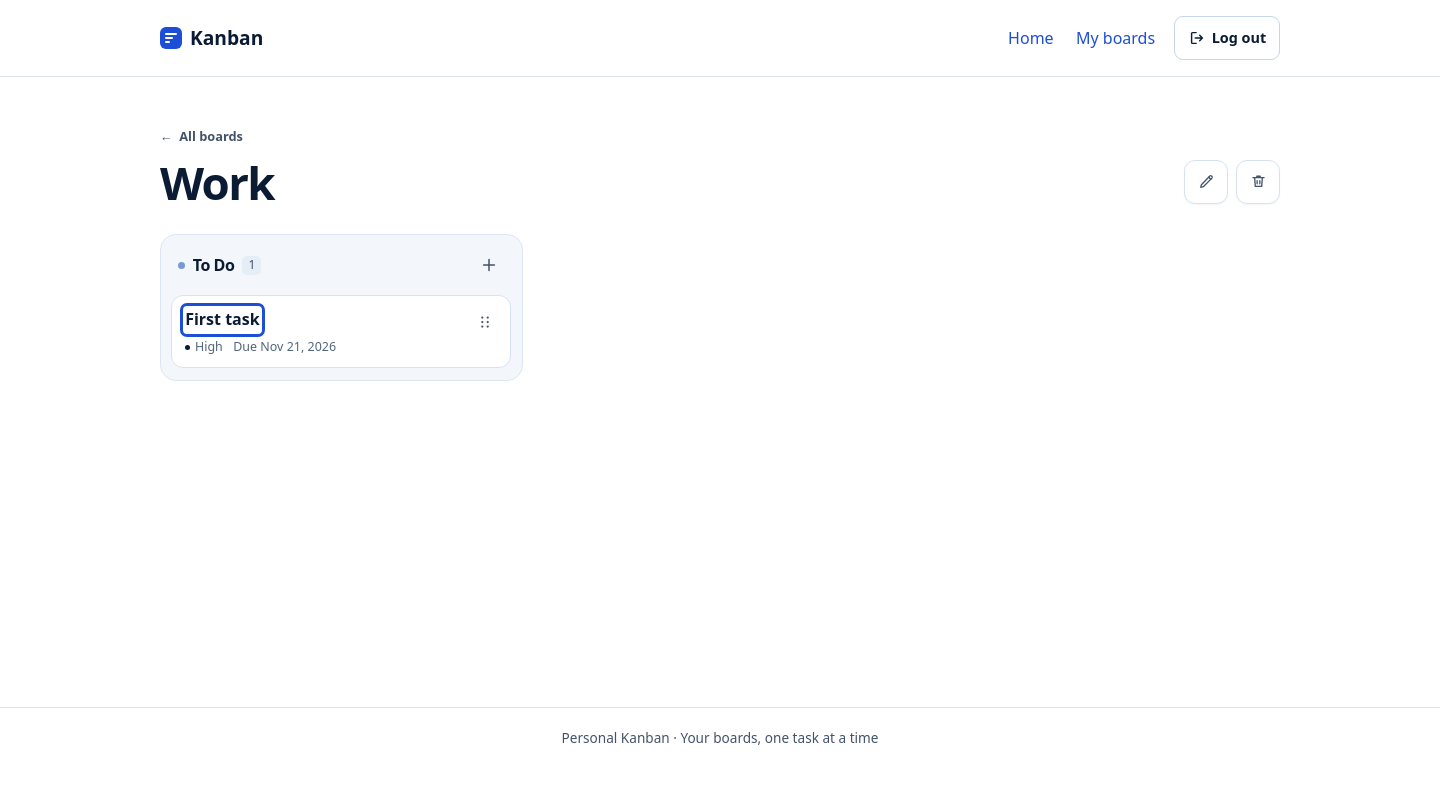
Test: board and card operations › opens the card editor in a focused modal and restores focus when dismissed
expect the heading "Work" is shown: met, box [160,159,274,206]
Click the button with aria-label "Edit card First task" at (222, 320), box [185,308,260,332]
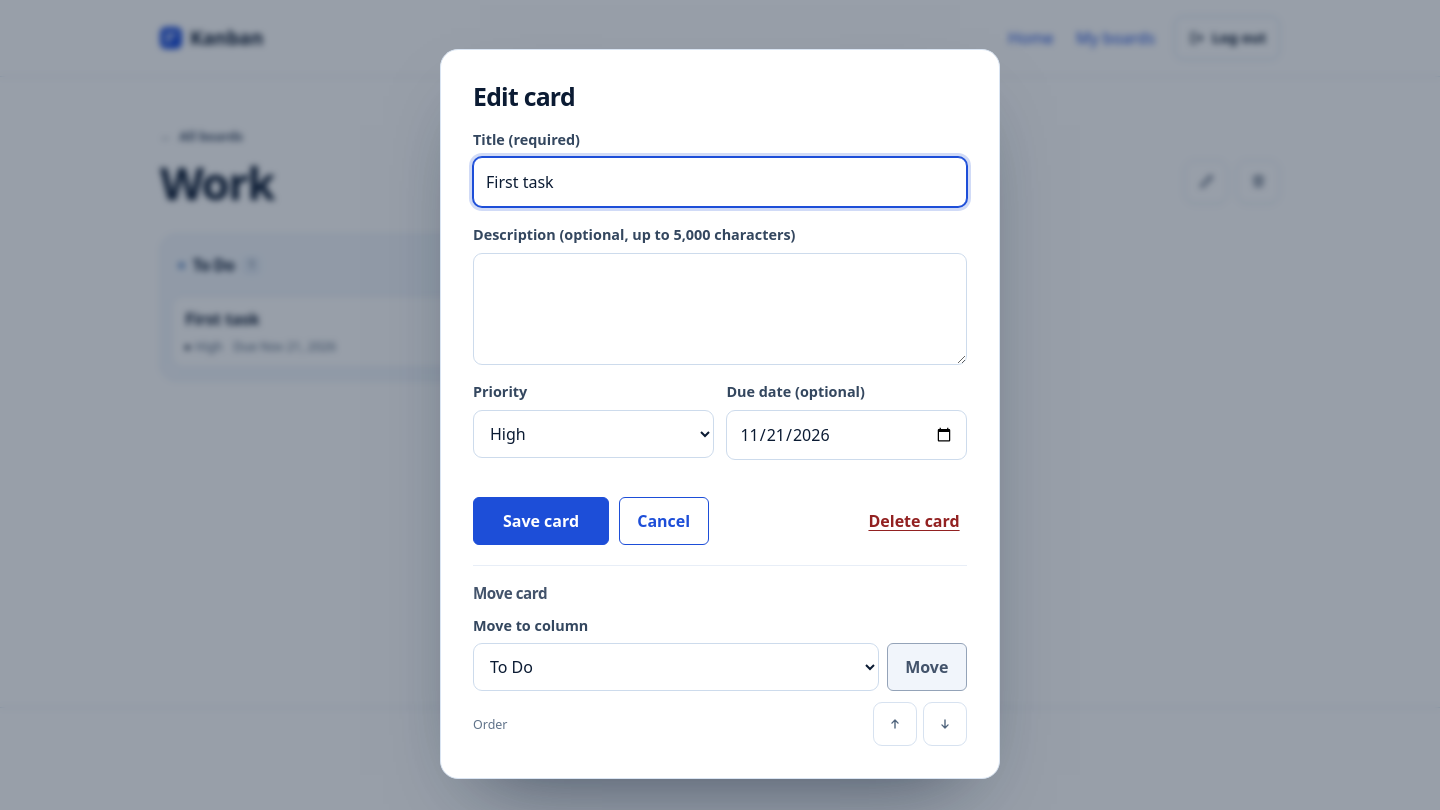
expect the dialog "Edit card" is shown: met
Press Escape in the dialog "Edit card", box [440,49,1000,779]
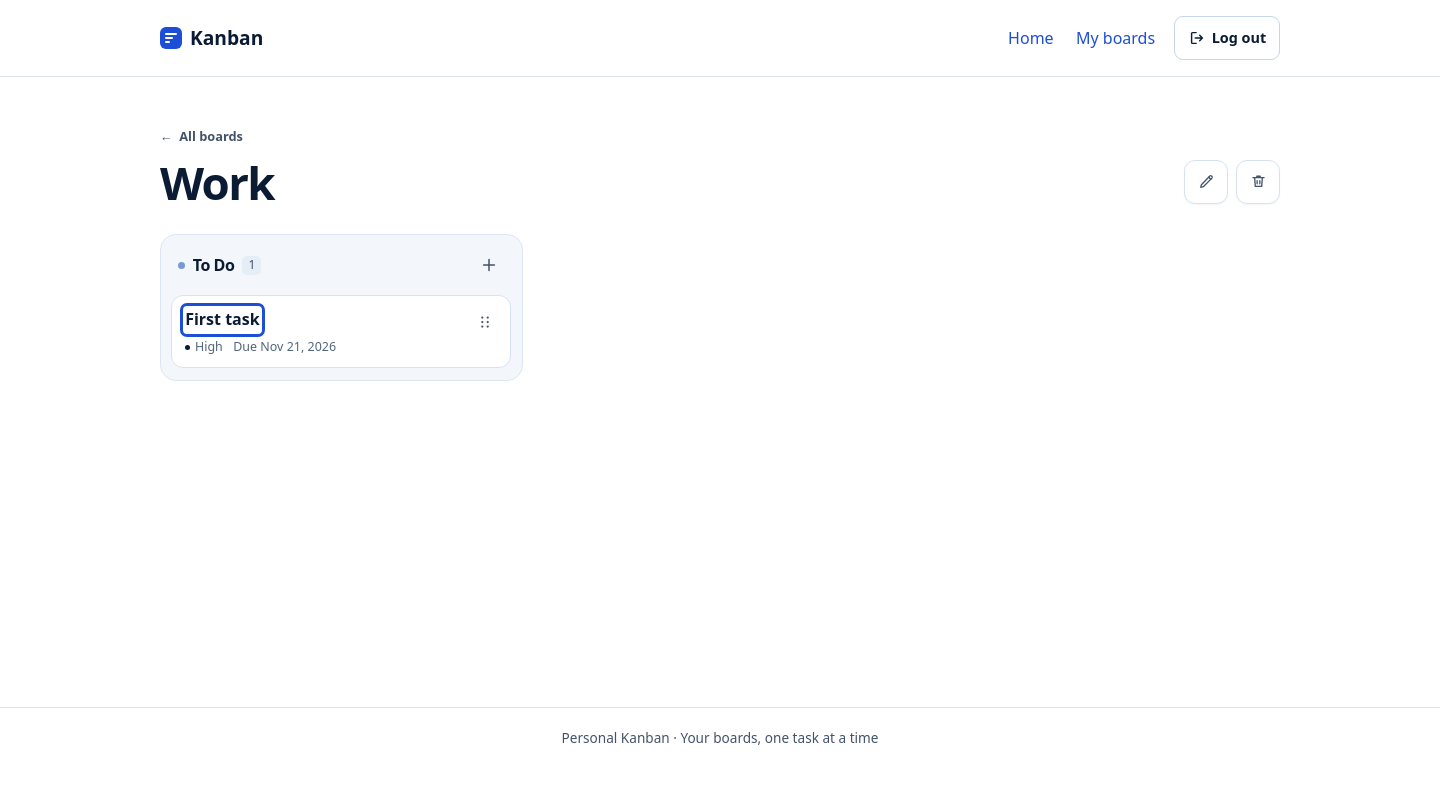
expect the dialog is gone: met
